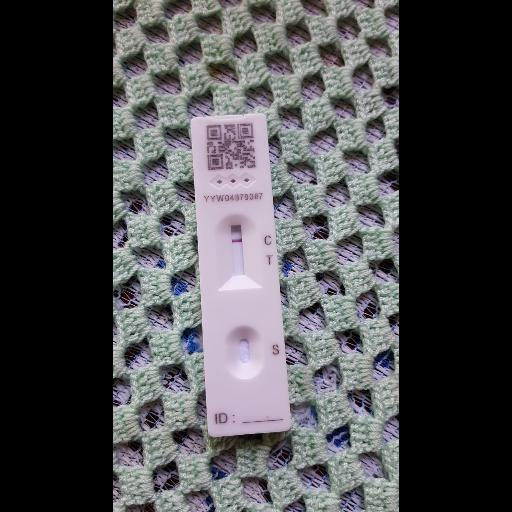Neg: (188, 112, 293, 439)
